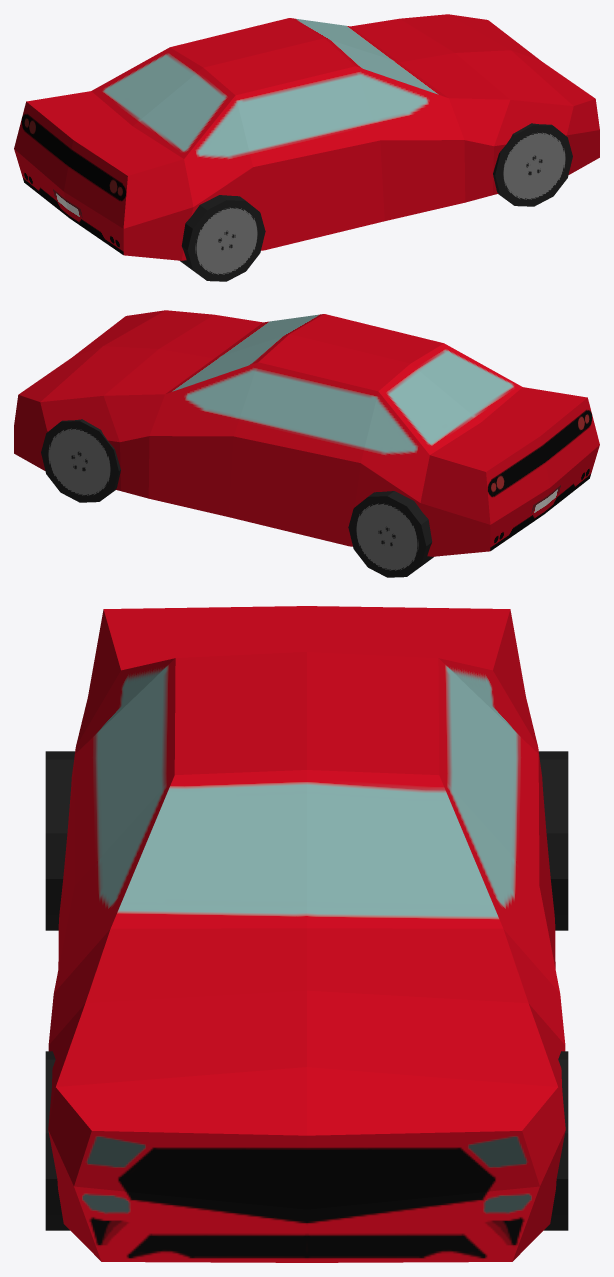
Rendered from car.fbx.
3 renders of one model, top to bottom at view 1: azimuth 30°, elevation 25°; view 2: azimuth 150°, elevation 25°; view 3: azimuth 270°, elevation 25°, orthographic. The views are drawn at different scales.
Visible parts, largest first — view 1: Car, Wheels.Back, Wheels.Front; view 2: Car, Wheels.Back, Wheels.Front; view 3: Car, Wheels.Back, Wheels.Front.
Part boxes in pixels (x1,y1,x2,y2): Car: [14, 14, 599, 260]; Wheels.Back: [180, 195, 265, 281]; Wheels.Front: [493, 123, 572, 206]; Car: [14, 310, 599, 556]; Wheels.Back: [348, 491, 433, 577]; Wheels.Front: [41, 419, 120, 502]; Car: [48, 606, 565, 1262]; Wheels.Back: [45, 751, 568, 930]; Wheels.Front: [45, 1051, 568, 1230].
Bounding box in the file's own units: 460 × 142 × 215.
Materials: 2 (2 with a texture image).
